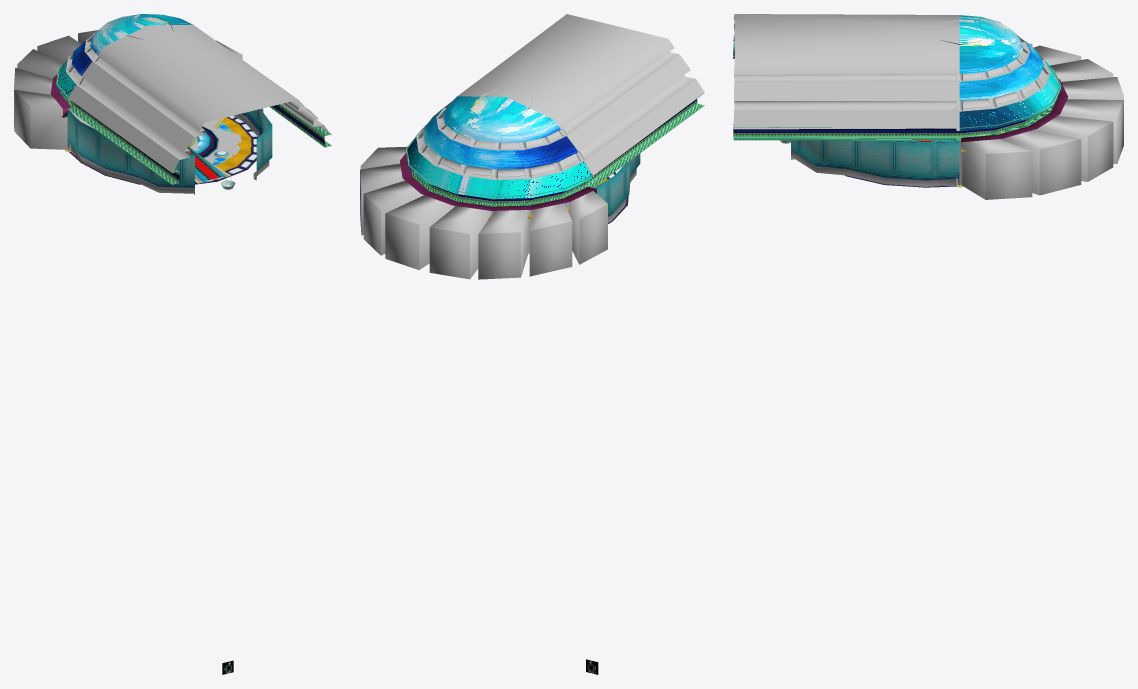
File: ChaoRaceEntry.obj
3 views of the same model, side by side, from view 1: azimuth 30°, elevation 25°; view 2: azimuth 150°, elevation 25°; view 3: azimuth 270°, elevation 25° (orthographic). The views are drawn at different scales.
Visible parts, largest first — view 1: object_301F0EC, object_3012BEC, object_302312C, object_3015984, object_3014FEC; view 2: object_301F0EC, object_3012BEC, object_302312C, object_301626C; view 3: object_301F0EC, object_3012BEC, object_302312C, object_301626C.
Boxes of the visible parts, x1=… form: object_301F0EC: x1=56, y1=19, x2=331, y2=194; object_3012BEC: x1=14, y1=30, x2=251, y2=171; object_302312C: x1=56, y1=14, x2=227, y2=182; object_3015984: x1=69, y1=116, x2=257, y2=184; object_3014FEC: x1=190, y1=125, x2=241, y2=183; object_301F0EC: x1=405, y1=14, x2=704, y2=222; object_3012BEC: x1=360, y1=146, x2=607, y2=279; object_302312C: x1=405, y1=96, x2=592, y2=253; object_301626C: x1=400, y1=153, x2=596, y2=219; object_301F0EC: x1=733, y1=14, x2=1061, y2=186; object_3012BEC: x1=930, y1=43, x2=1123, y2=199; object_302312C: x1=902, y1=15, x2=1061, y2=187; object_301626C: x1=961, y1=79, x2=1067, y2=151.
Bounding box in the file's own units: 71.39 × 190 × 104.
